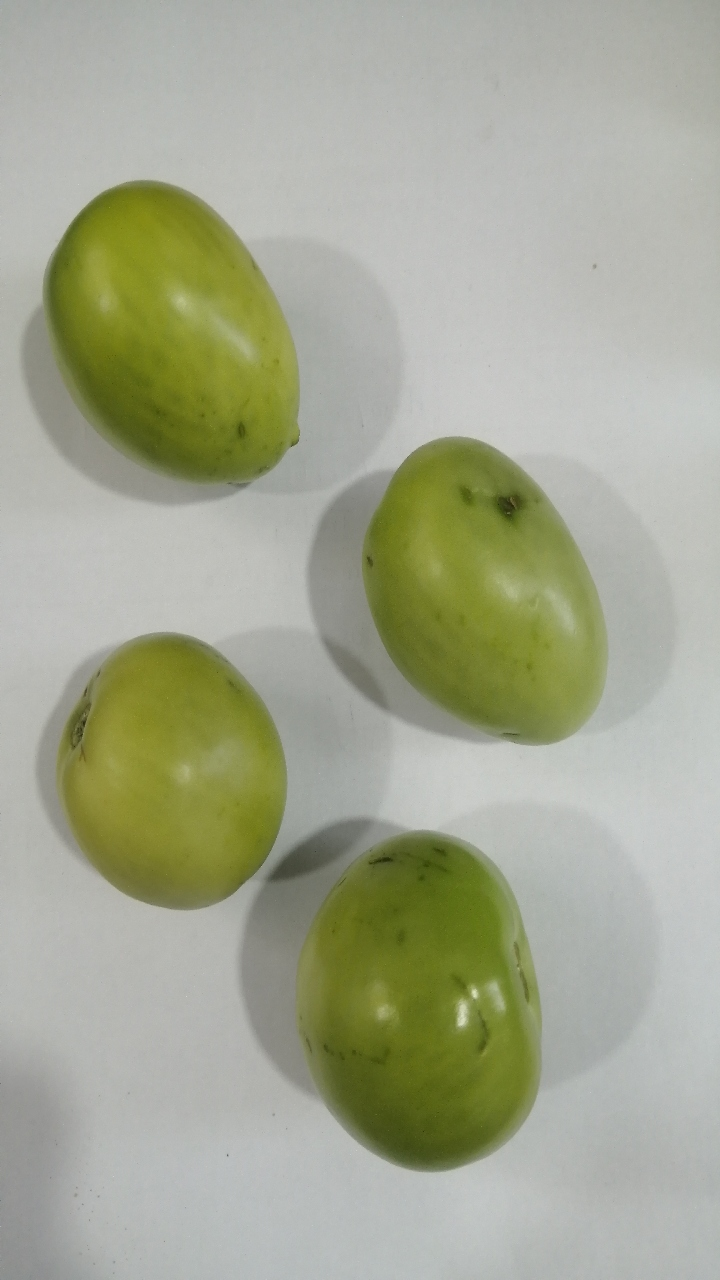tomateVerde: (14, 146, 338, 512), (264, 814, 572, 1188), (343, 415, 608, 769), (34, 619, 297, 931)
